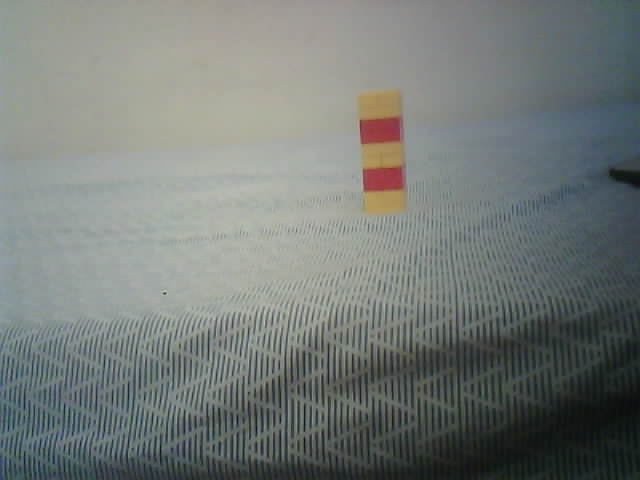lego: (354, 87, 408, 215)
